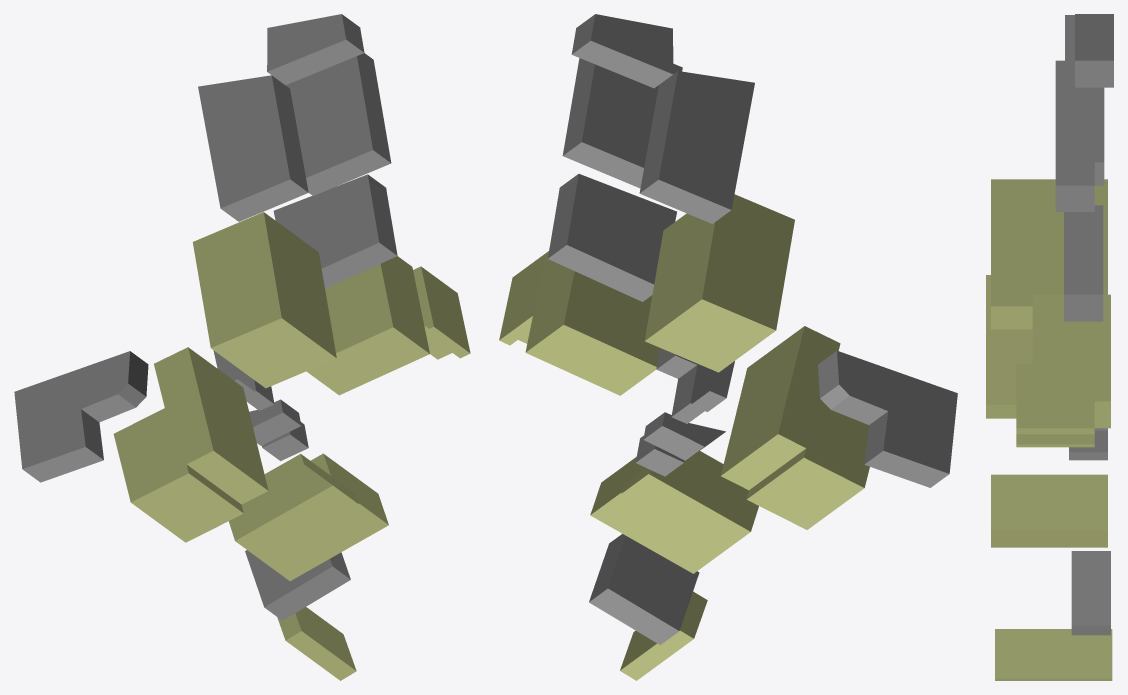
3 views of the same model, side by side, from view 1: azimuth 30°, elevation 25°; view 2: azimuth 150°, elevation 25°; view 3: azimuth 270°, elevation 25° (orthographic). The views are drawn at different scales.
Visible parts, largest first — view 1: 0_1_2_0_0_2_2_0_2; view 2: 0_1_2_0_0_2_2_0_2; view 3: 0_1_2_0_0_2_2_0_2.
Boxes of the visible parts, x1,y1,x2,y2 form: 0_1_2_0_0_2_2_0_2: [14, 14, 470, 680]; 0_1_2_0_0_2_2_0_2: [499, 14, 957, 680]; 0_1_2_0_0_2_2_0_2: [986, 14, 1113, 680].
Bounding box in the file's own units: 39.67 × 55.59 × 9.83.
